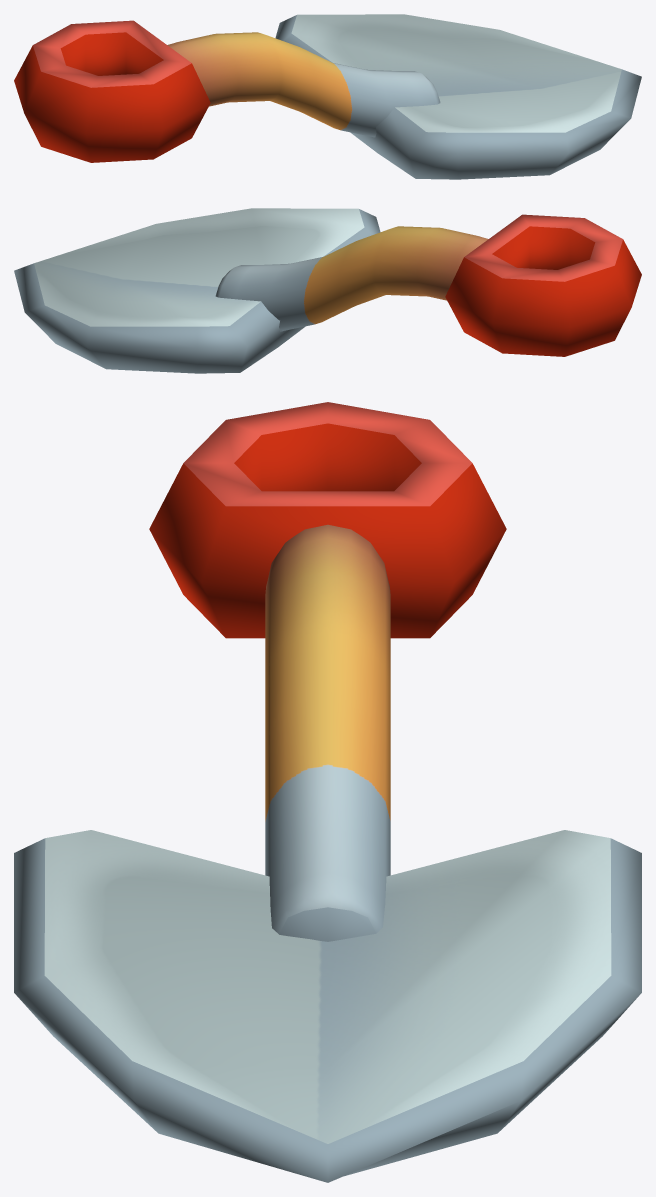
Rendered from Shovel.fbx.
3 views of the same model, one above another, from view 1: azimuth 30°, elevation 25°; view 2: azimuth 150°, elevation 25°; view 3: azimuth 270°, elevation 25° (orthographic). The views are drawn at different scales.
Parts seen in each view (by area): view 1: Shovel; view 2: Shovel; view 3: Shovel.
Part boxes in pixels (x1,y1,x2,y2): Shovel: (14,14,641,179); Shovel: (14,208,641,373); Shovel: (14,402,641,1182).
Size of the model in its own units: 418 by 117 by 209.
